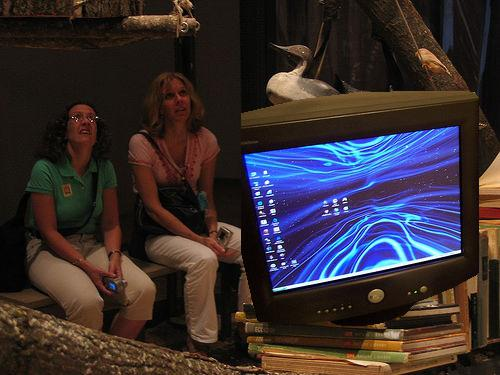tampered: (242, 92, 479, 326)
